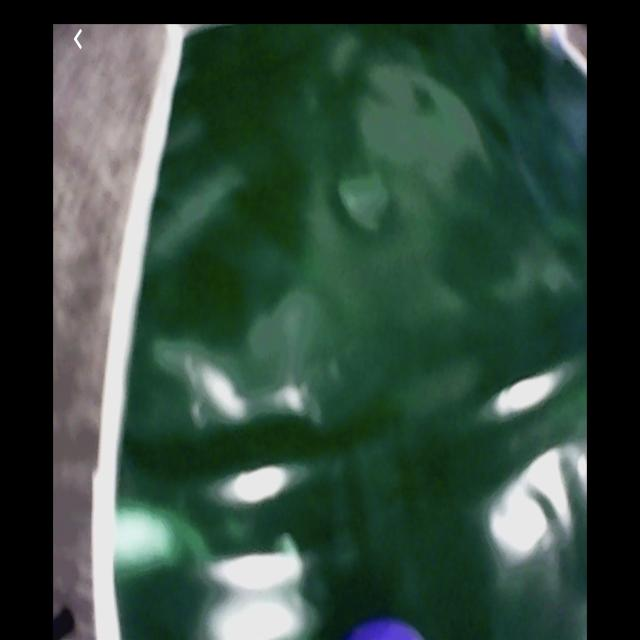ball: (342, 616, 435, 640)
